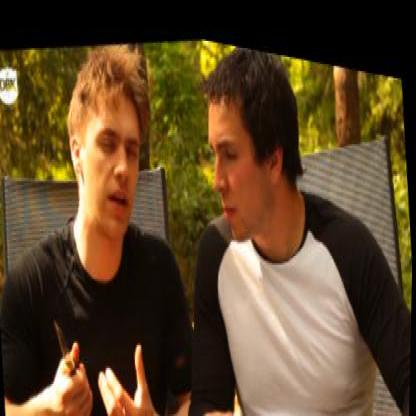knife: (45, 293, 100, 415)
